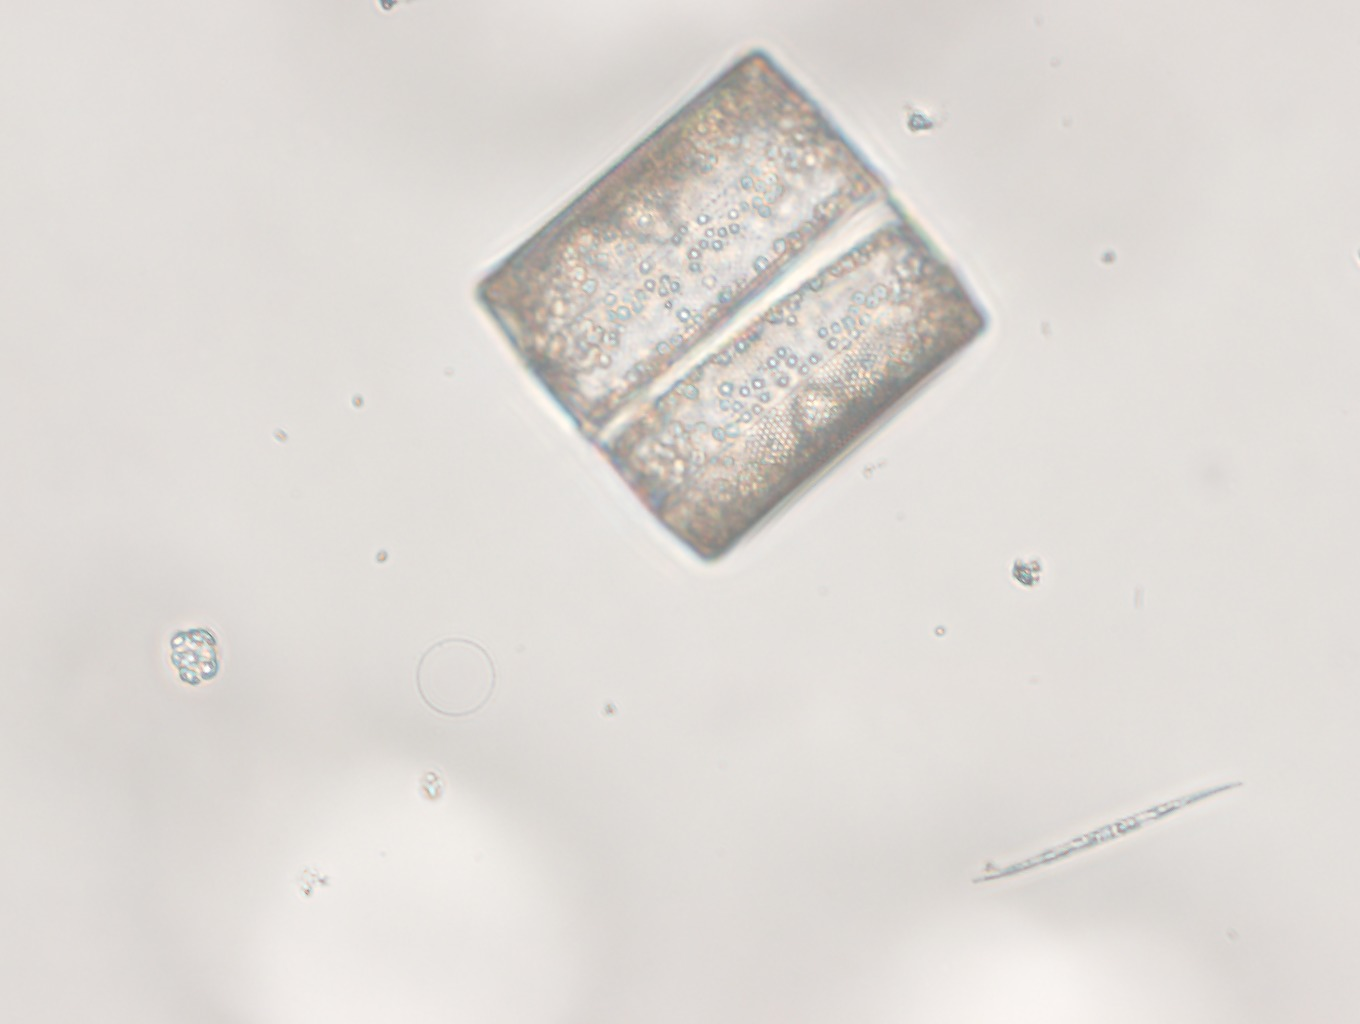coscinodiscus flank: (444, 28, 998, 572)
pleurosigma pelagicum: (967, 760, 1256, 893)
